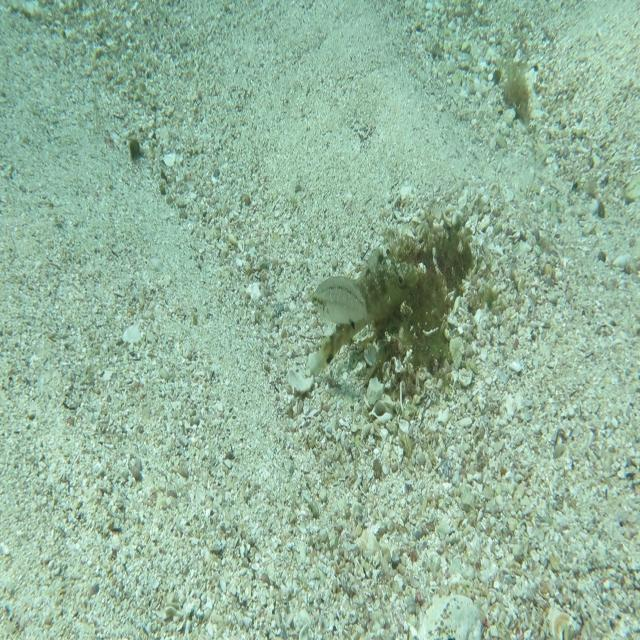BK_SW: (308, 244, 420, 377)
core_nest: (414, 240, 466, 276)
female: (311, 273, 375, 333)
nest: (359, 207, 479, 405)
